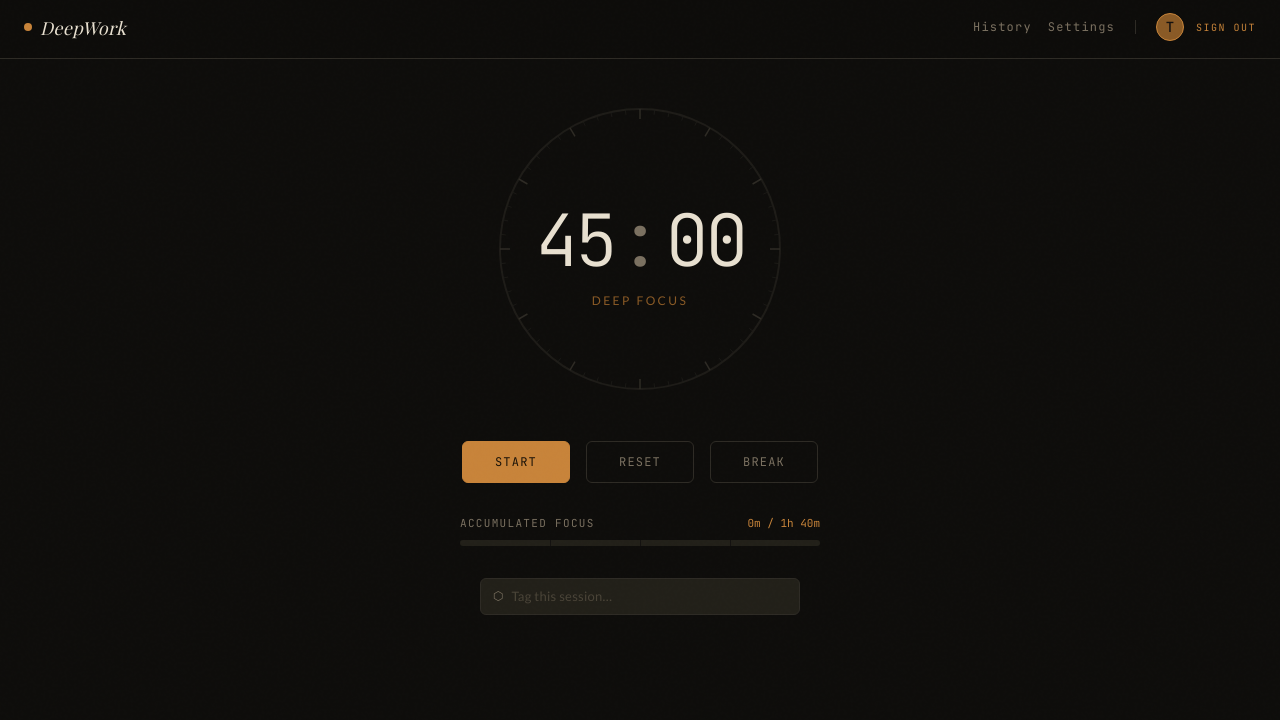
Test: TimerWidget Top Bar UI (Guest vs Auth) › handles sign out correctly
The image size is (1280, 720).
Click the button "SIGN OUT": (1226, 27) top-left (1196, 20), bottom-right (1256, 34)
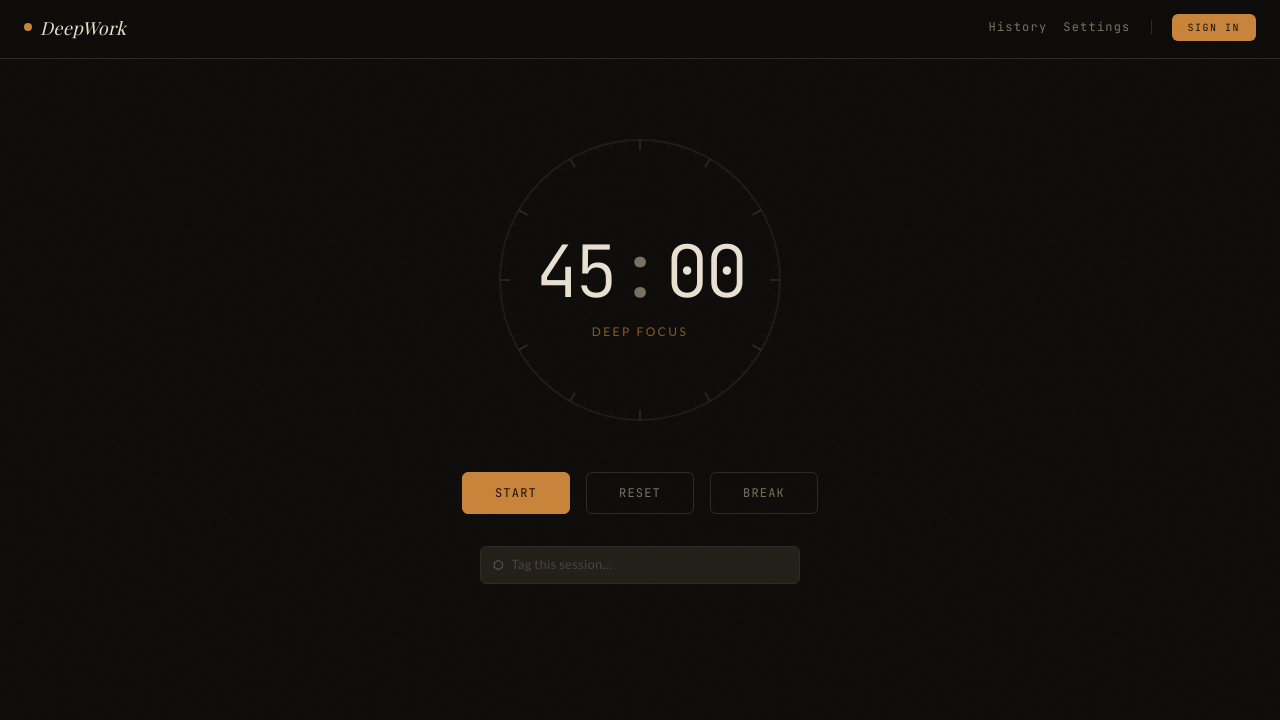
Check: the button "SIGN OUT" is gone
